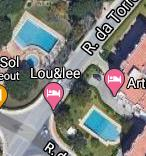pool: (13, 18, 59, 68), (79, 104, 122, 146)
